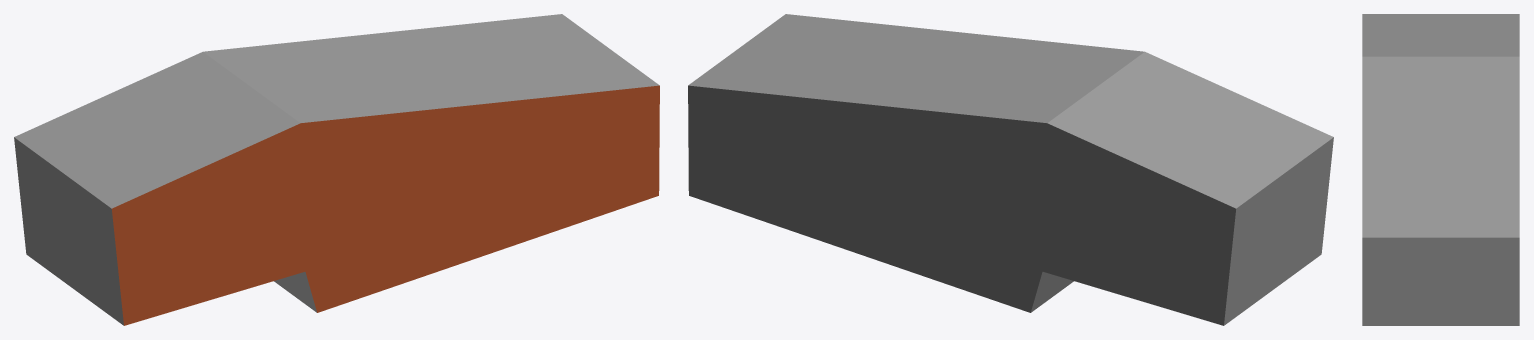
Rendered from construction_3740_assumed_A_Casa_h6m.obj.
The picture shows the model from 3 angles, left to right: view 1: azimuth 30°, elevation 25°; view 2: azimuth 150°, elevation 25°; view 3: azimuth 270°, elevation 25°; orthographic projection. The views are drawn at different scales.
Parts seen in each view (by area): view 1: construction_3740_assumed_A_Casa; view 2: construction_3740_assumed_A_Casa; view 3: construction_3740_assumed_A_Casa.
Part boxes in pixels (x1,y1,x2,y2): construction_3740_assumed_A_Casa: [14, 14, 659, 325]; construction_3740_assumed_A_Casa: [688, 14, 1333, 325]; construction_3740_assumed_A_Casa: [1362, 14, 1519, 325].
Size of the model in its own units: 19.43 by 6.57 by 6.
